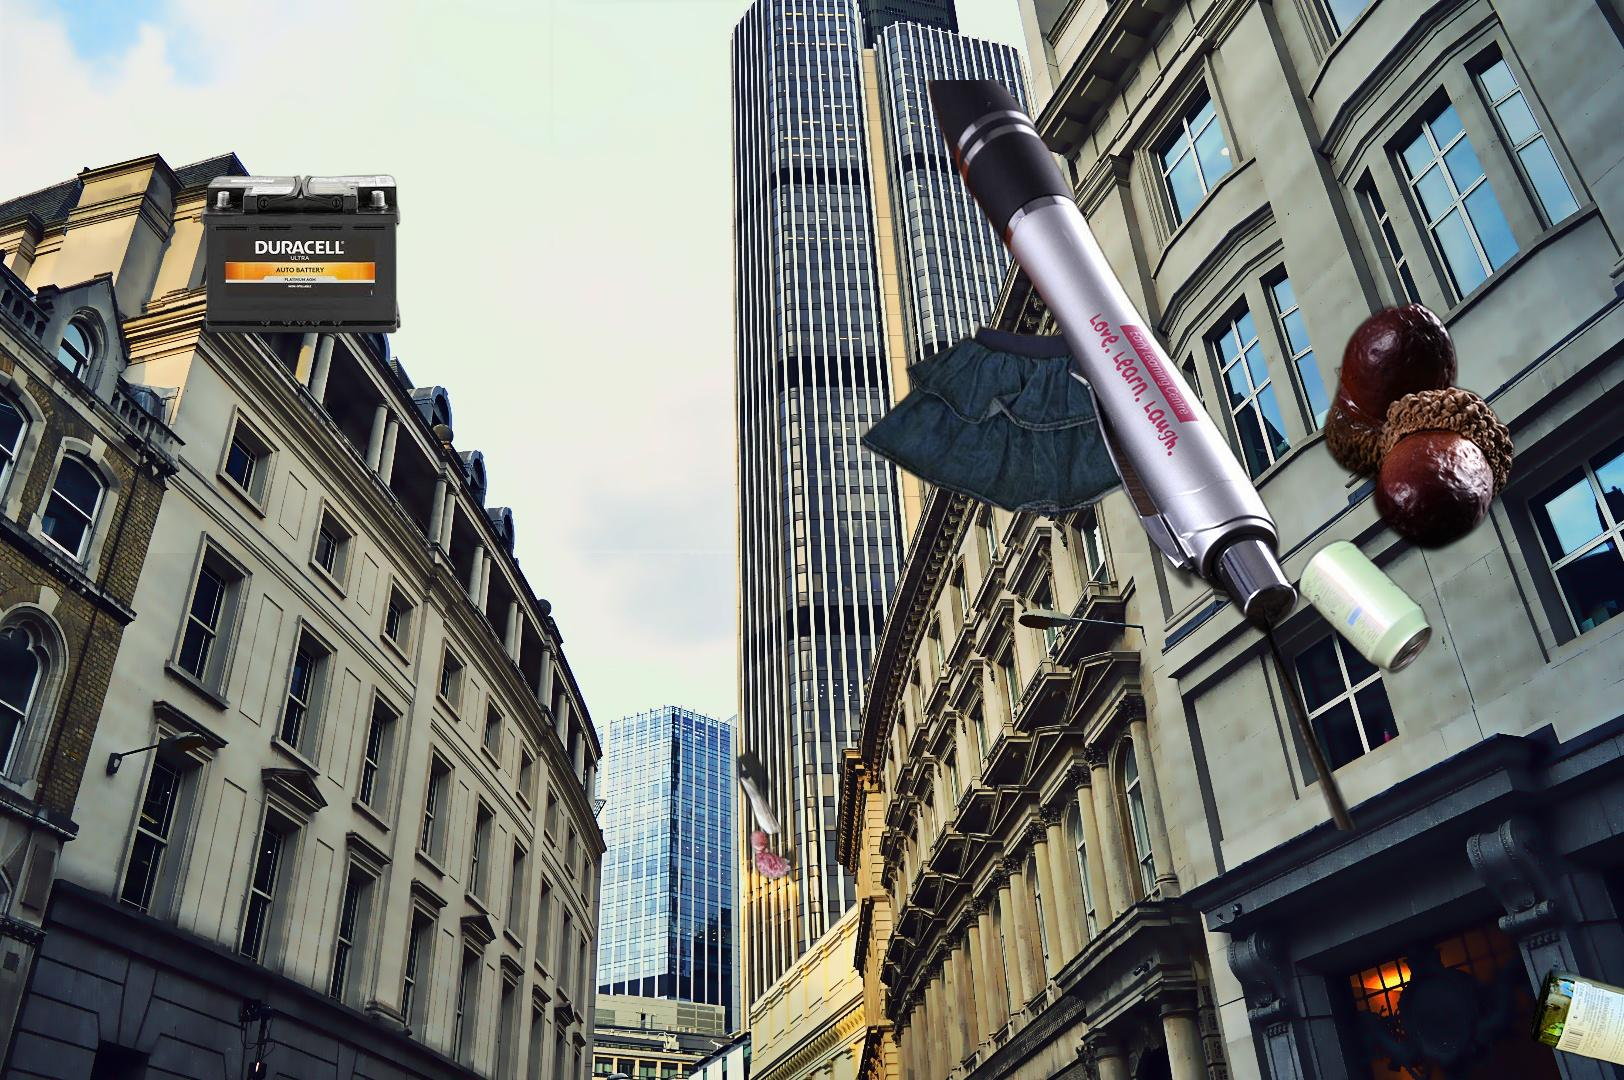battery: (198, 172, 404, 336)
clothes: (857, 312, 1216, 521)
glass: (1525, 963, 1624, 1080)
metal-cans: (1179, 344, 1624, 1027), (1585, 724, 1624, 1080)
paper: (732, 749, 810, 887)
penholder: (920, 80, 1522, 830)
